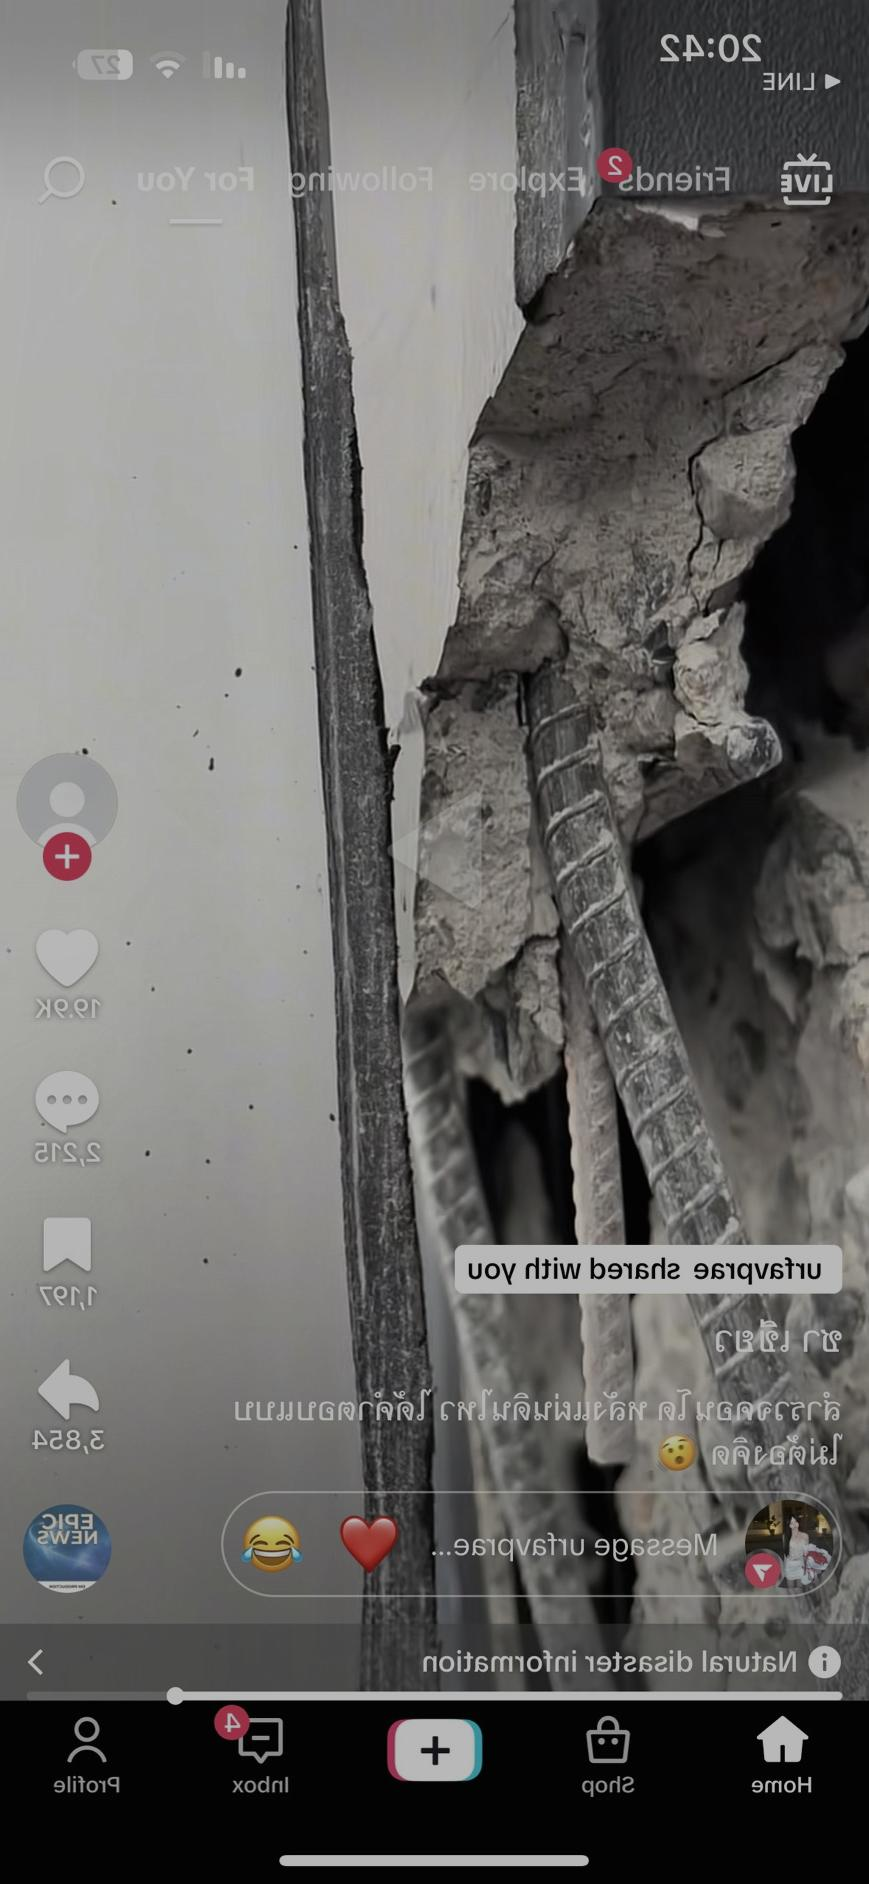High: (206, 213, 869, 1238)
